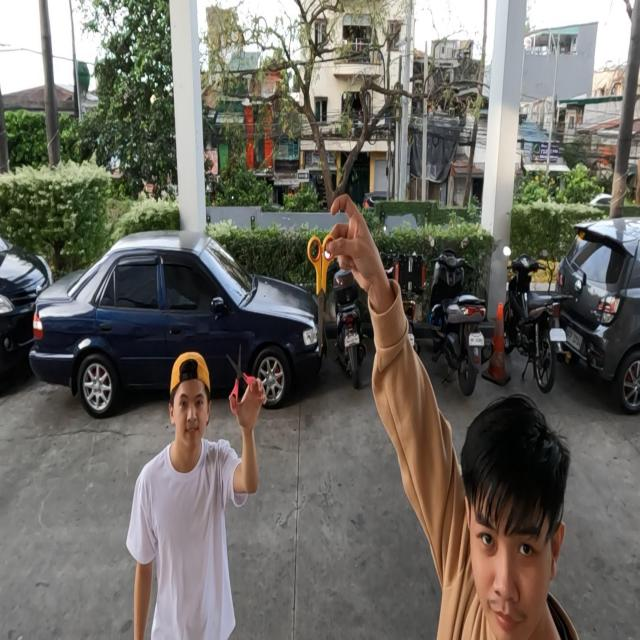scissor: (307, 234, 335, 358), (226, 344, 259, 415)
